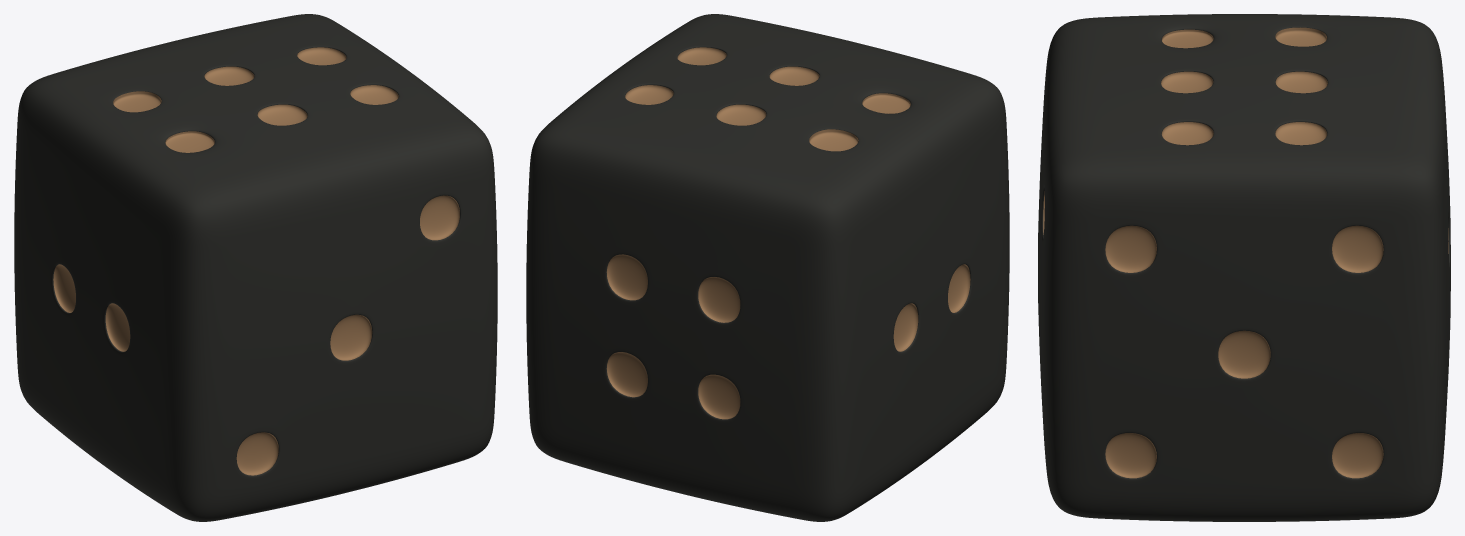
File: Dice.fbx
3 renders of one model, left to right at view 1: azimuth 30°, elevation 25°; view 2: azimuth 150°, elevation 25°; view 3: azimuth 270°, elevation 25°, orthographic. The views are drawn at different scales.
Parts seen in each view (by area): view 1: Cube; view 2: Cube; view 3: Cube.
Part boxes in pixels (x1,y1,x2,y2): Cube: [14, 14, 497, 521]; Cube: [526, 14, 1009, 521]; Cube: [1038, 14, 1450, 521].
Size of the model in its own units: 212 by 212 by 212.
